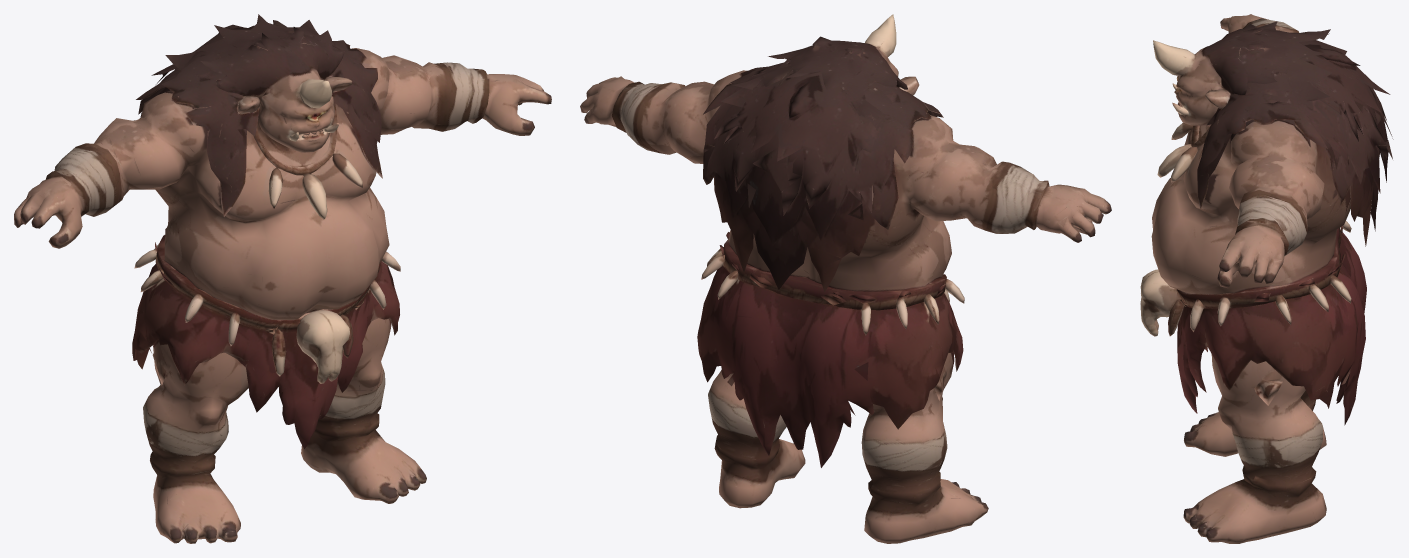
File: Meshy_AI_Savage_Tusk_Brute_1002071802_texture.fbx
The picture shows the model from 3 angles, left to right: view 1: azimuth 30°, elevation 25°; view 2: azimuth 150°, elevation 25°; view 3: azimuth 270°, elevation 25°; orthographic projection. The views are drawn at different scales.
Visible parts, largest first — view 1: Mesh_0; view 2: Mesh_0; view 3: Mesh_0.
Part boxes in pixels (x1=…): Mesh_0: x1=14, y1=14, x2=551, y2=543; Mesh_0: x1=580, y1=14, x2=1111, y2=543; Mesh_0: x1=1140, y1=14, x2=1393, y2=543.
Bounding box in the file's own units: 100 × 86.02 × 43.58.
Materials: 1 (1 with a texture image).
